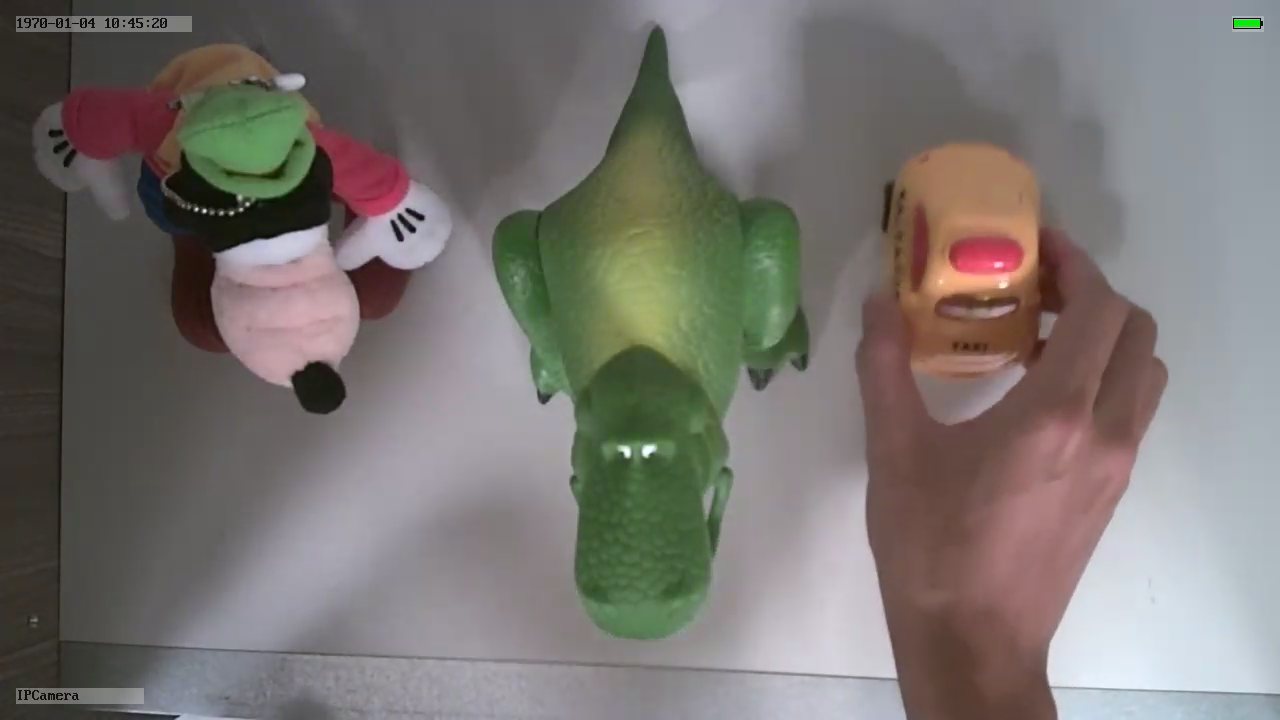goofy: (29, 42, 457, 415)
